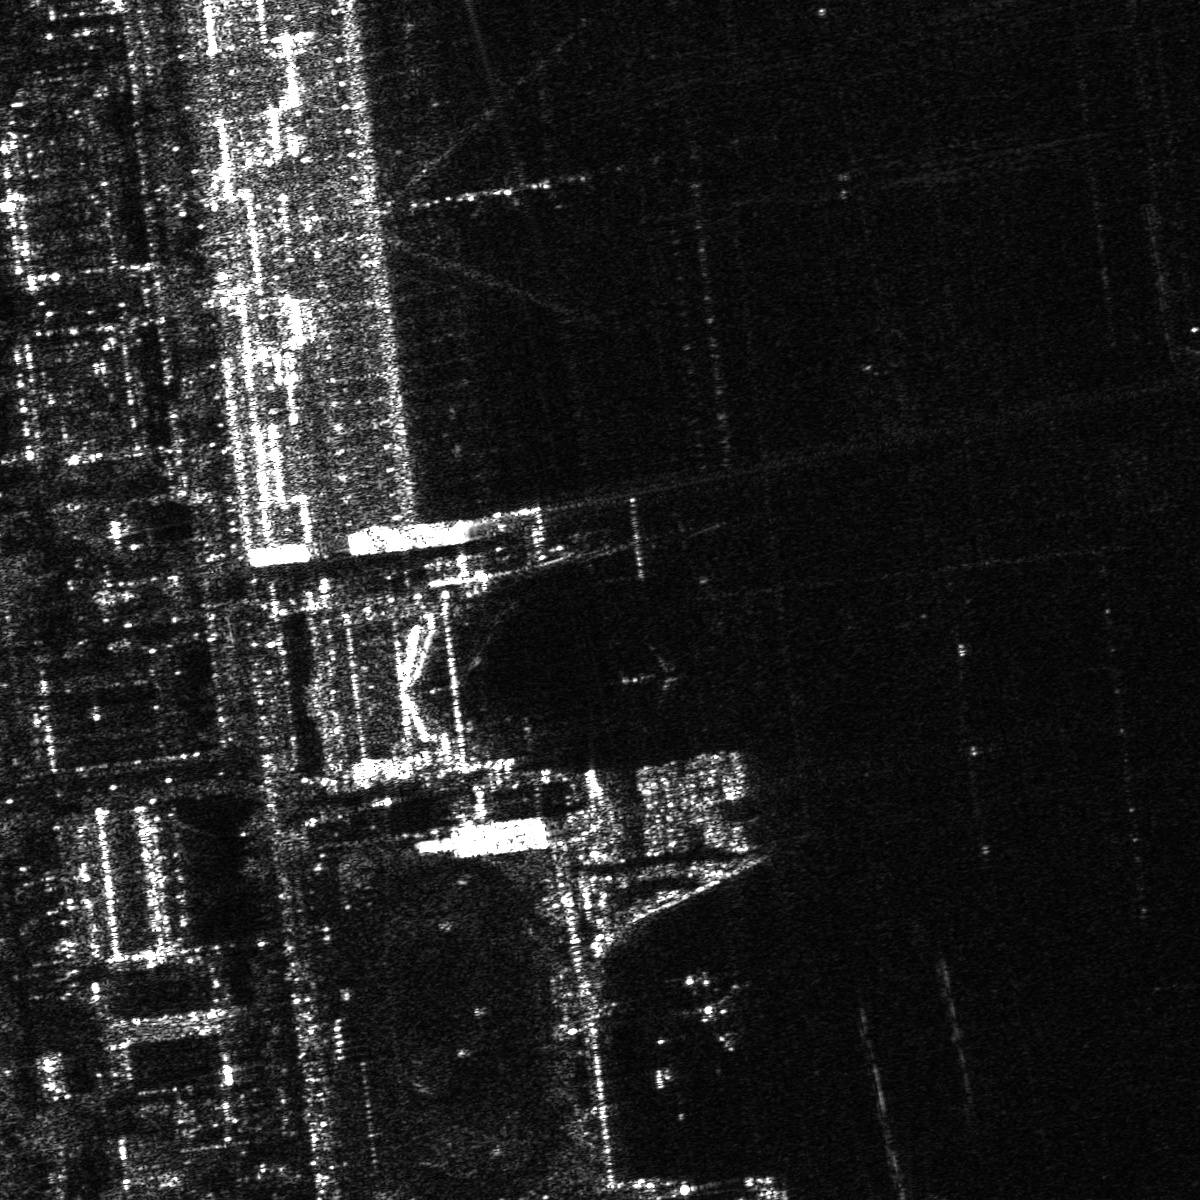Boeing787: (657, 959, 749, 1054)
other: (615, 641, 697, 705)
